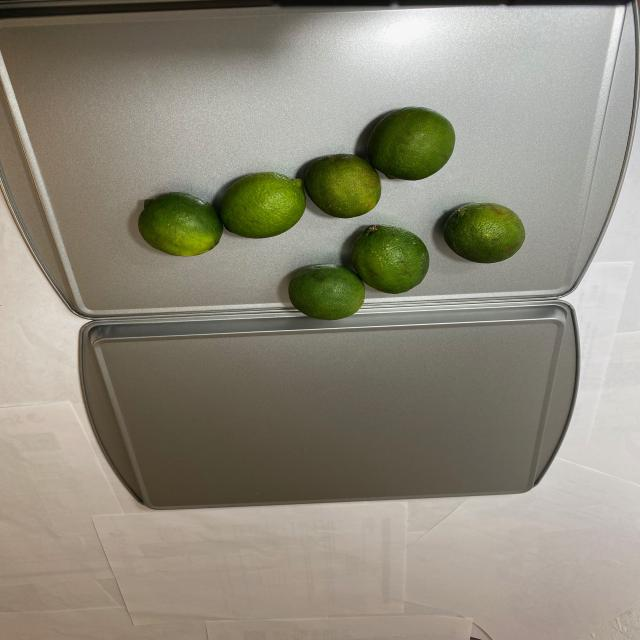lemon: (131, 106, 524, 321)
